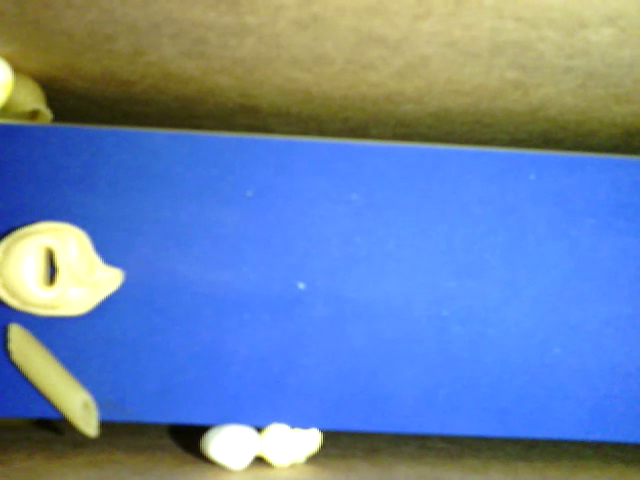penne: (6, 320, 100, 442)
shell: (3, 72, 57, 129)
tortellini: (1, 218, 123, 323)
